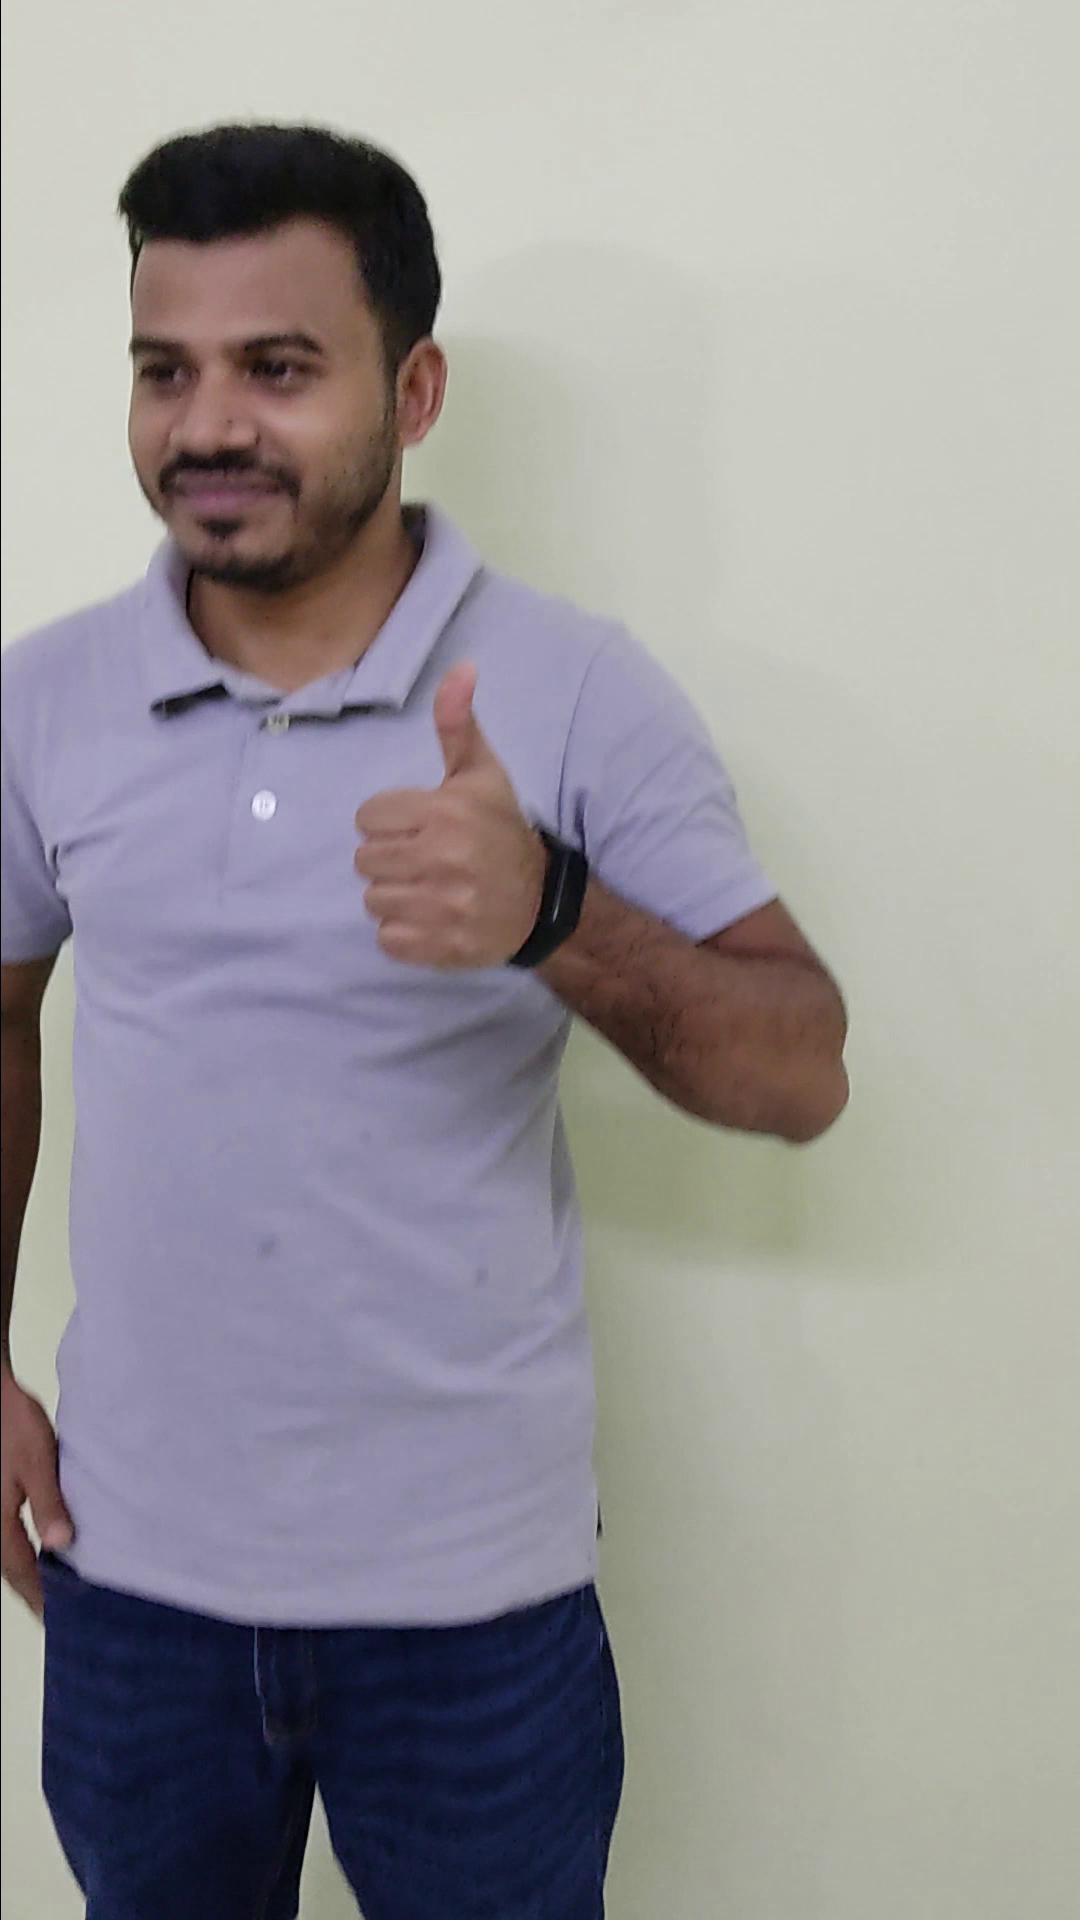Like: (344, 649, 582, 986)
None: (4, 1361, 88, 1639)
